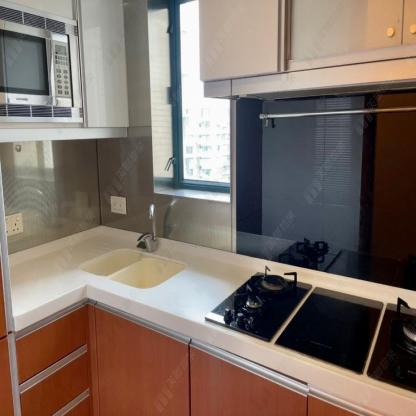Faucet: (137, 191, 159, 250)
Microwave: (0, 1, 86, 127)
Sink: (59, 240, 215, 306)
Stove: (182, 254, 416, 401)
